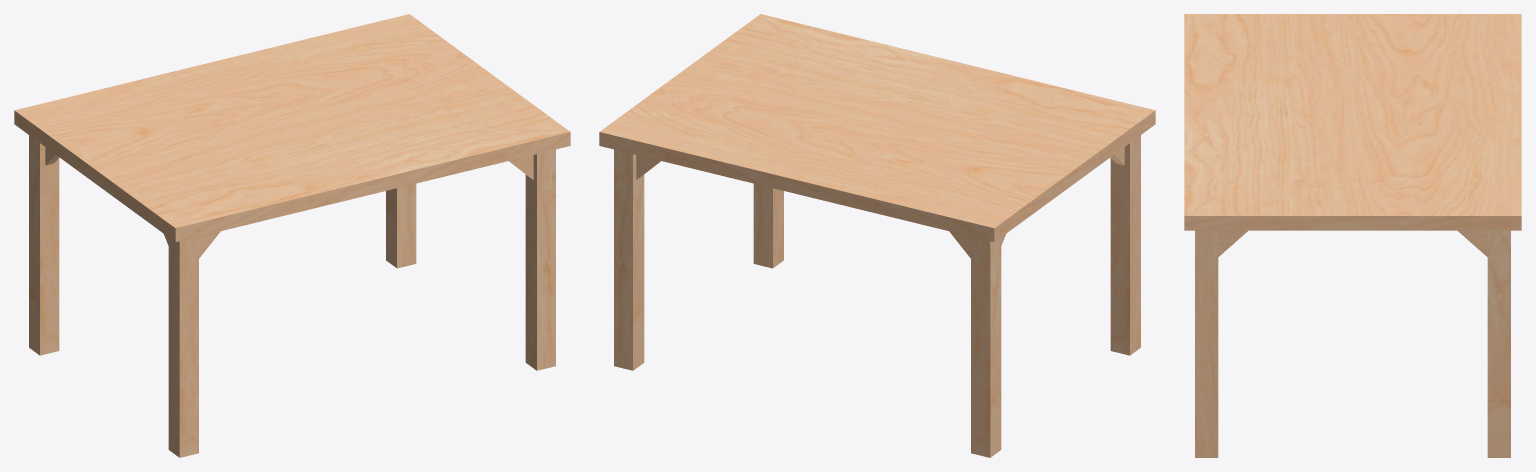
File: House_Demo_032-col.glb
3 views of the same model, side by side, from view 1: azimuth 30°, elevation 25°; view 2: azimuth 150°, elevation 25°; view 3: azimuth 270°, elevation 25° (orthographic). The views are drawn at different scales.
Visible parts, largest first — view 1: House_Demo_032-col; view 2: House_Demo_032-col; view 3: House_Demo_032-col.
Part boxes in pixels (x1,y1,x2,y2): House_Demo_032-col: (14,14,570,457); House_Demo_032-col: (599,14,1155,457); House_Demo_032-col: (1184,14,1521,457).
Size of the model in its own units: 1.63 by 0.93 by 1.15.
1 material, 1 textured.
